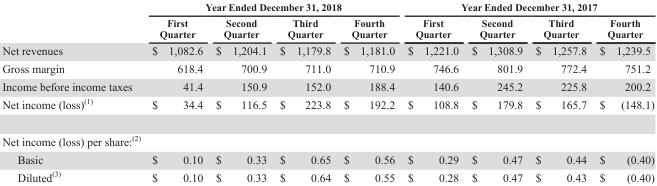table: (1, 0, 653, 183)
table column: (1, 0, 141, 183), (141, 0, 208, 183), (208, 0, 272, 183), (272, 0, 336, 183), (336, 0, 400, 183), (400, 0, 464, 183), (464, 0, 528, 183), (528, 0, 592, 183), (592, 0, 653, 183)
table column header: (1, 0, 653, 41)
table projected row header: (1, 121, 653, 150)
table row: (1, 121, 653, 150), (1, 14, 653, 41), (1, 94, 653, 121), (1, 41, 653, 59), (1, 59, 653, 77), (1, 77, 653, 94), (1, 150, 653, 167), (1, 167, 653, 183), (1, 0, 653, 14)
table spanning cell: (141, 0, 400, 14), (400, 0, 653, 14)
